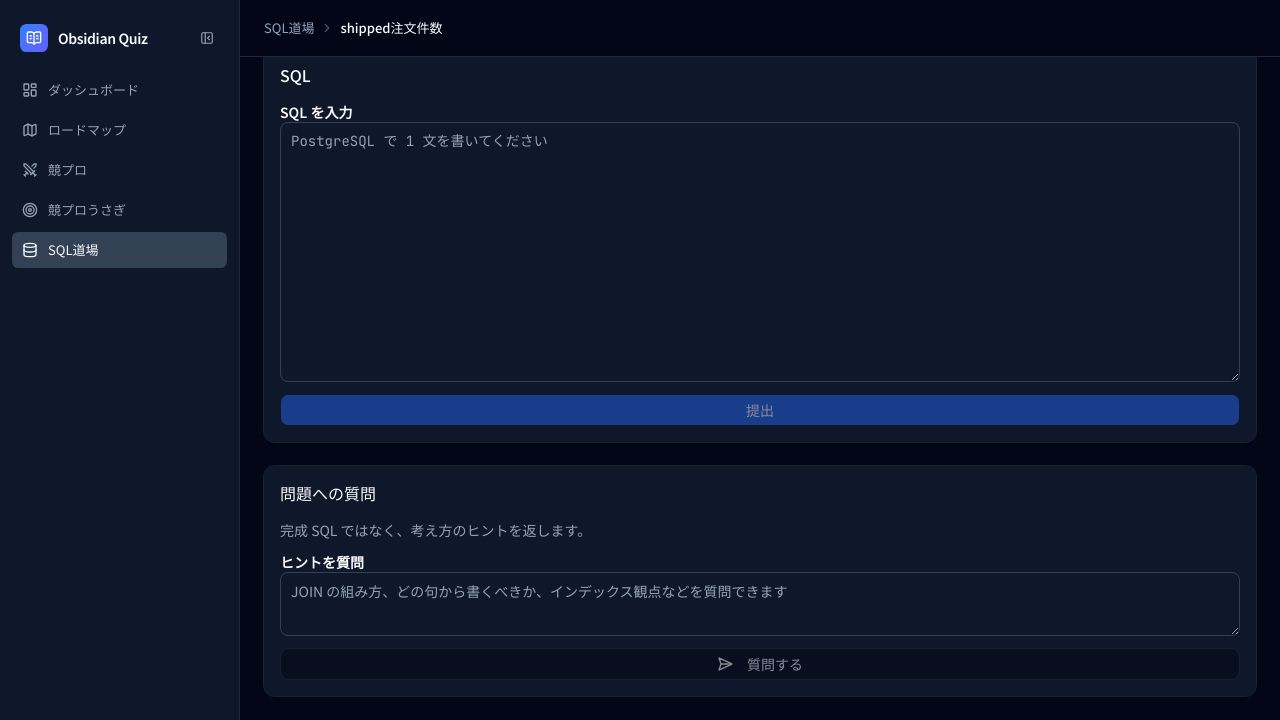
Test: SqlDojoSessionPage › 質問送信ができる
(page scrolled)
Type "どこから考える？" into the text box labelled "ヒントを質問" at (760, 604), box x1=280 y1=572 x2=1240 y2=636
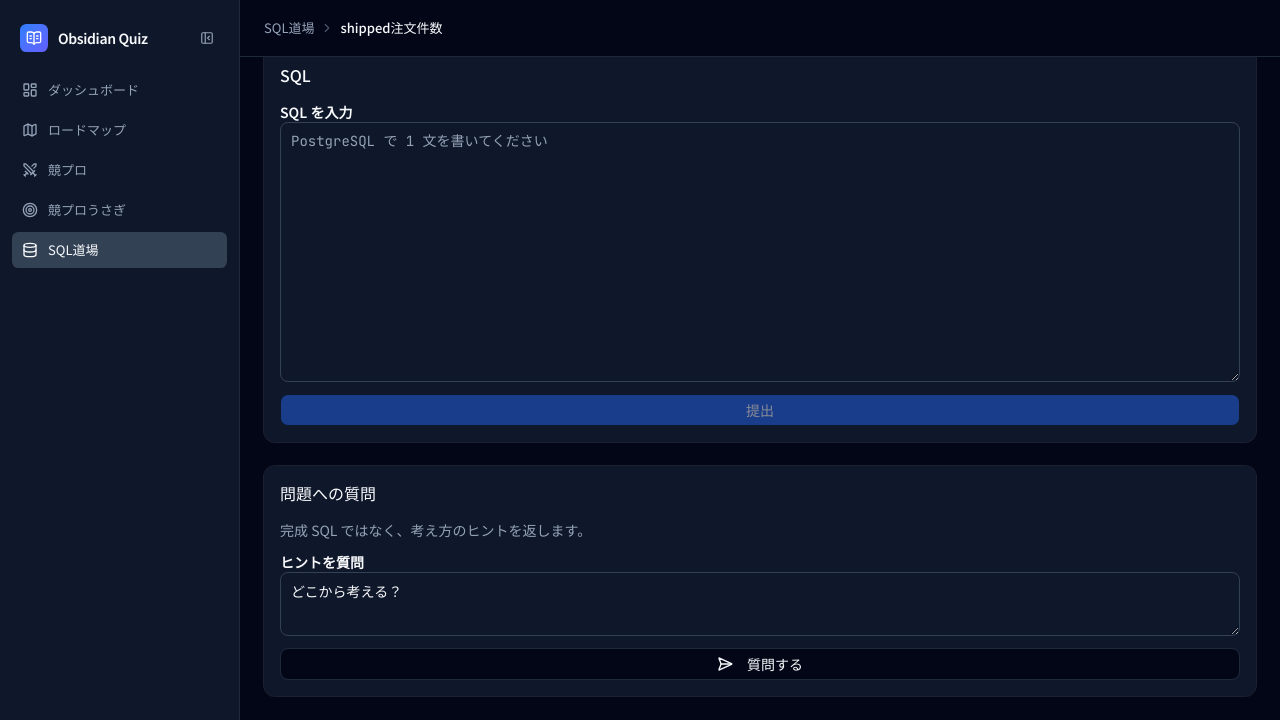
Click the button "質問する" at (760, 664), box x1=280 y1=648 x2=1240 y2=680
(page scrolled)
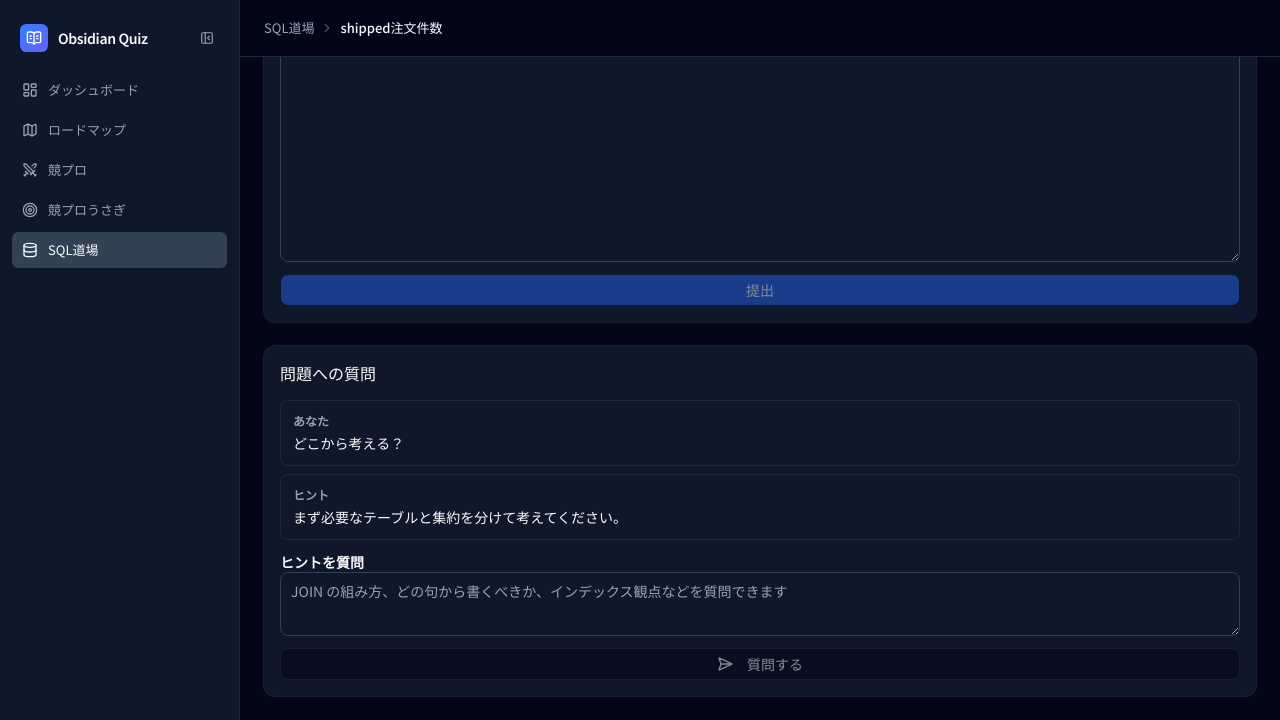
Now the text "まず必要なテーブルと集約を分けて考えてください。" is shown, box x1=293 y1=507 x2=627 y2=527
Now the text box labelled "ヒントを質問" is empty, box x1=280 y1=572 x2=1240 y2=636
